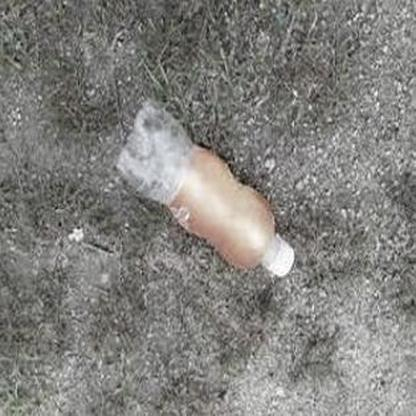plastic bottle: (116, 105, 295, 276)
